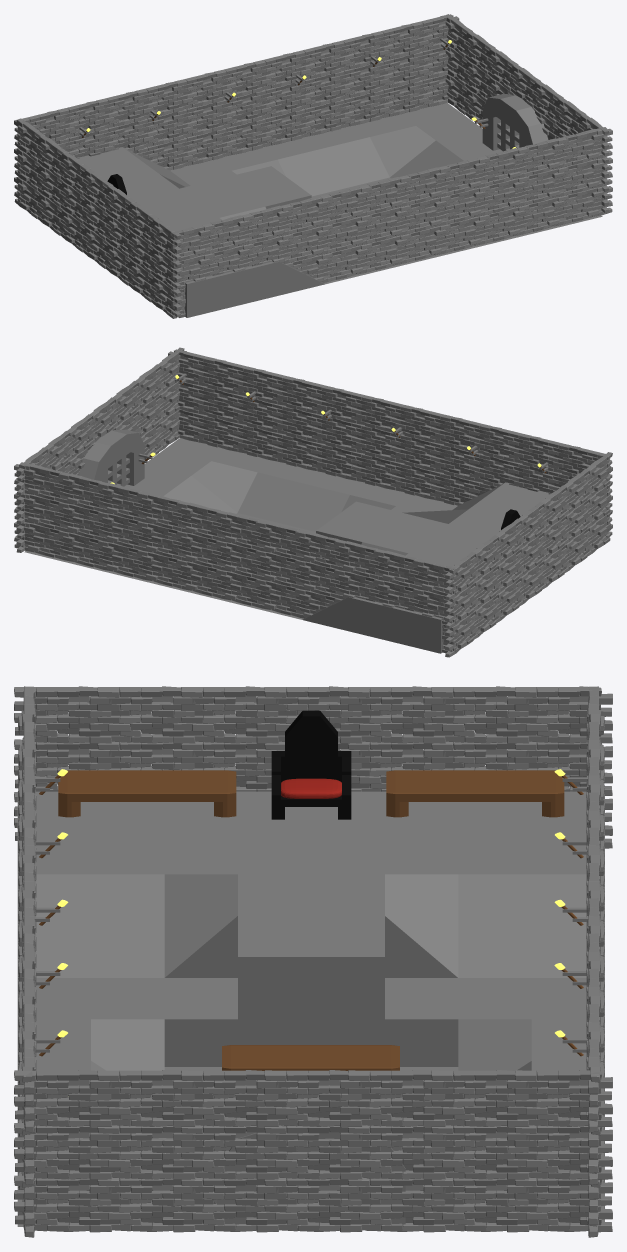
The model's file is final room.fbx.
The picture shows the model from 3 angles, top to bottom: view 1: azimuth 30°, elevation 25°; view 2: azimuth 150°, elevation 25°; view 3: azimuth 270°, elevation 25°; orthographic projection. The views are drawn at different scales.
Parts seen in each view (by area): view 1: Cube; view 2: Cube; view 3: Cube.
Part boxes in pixels (left/top/right/bottom): Cube: left=14, top=14, right=612, bottom=318; Cube: left=14, top=347, right=612, bottom=657; Cube: left=14, top=686, right=612, bottom=1237.
Size of the model in its own units: 4776 by 1157 by 3052.
